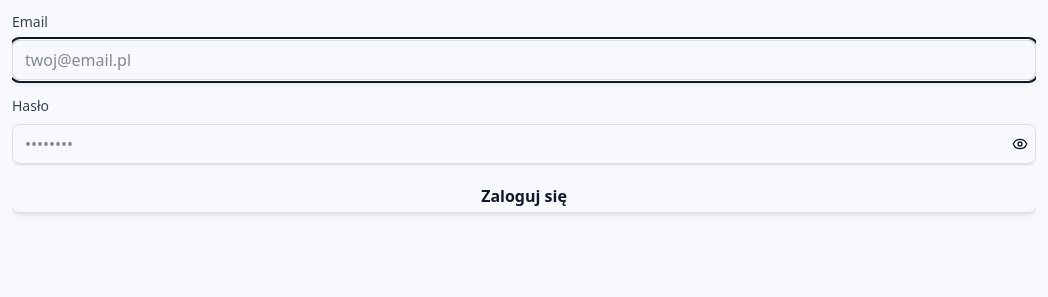
LoginForm › Client-side Validation › should show error when email format is invalid
Type "invalid-email" into the field labelled "Email" at (524, 60), box [12,40,1036,80]
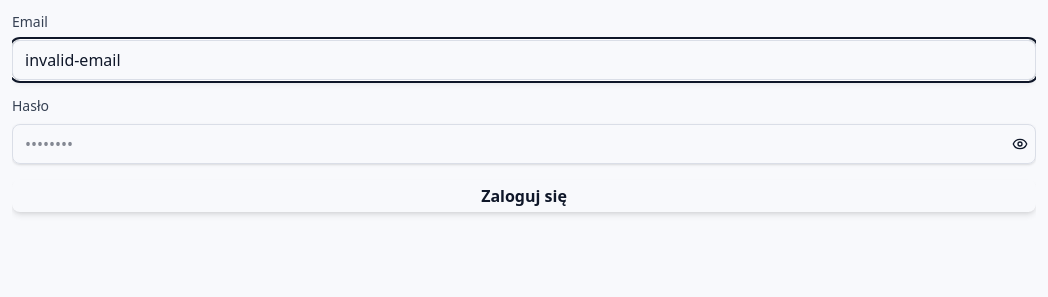
Click the button "Zaloguj się" at (524, 196), box [12,180,1036,212]
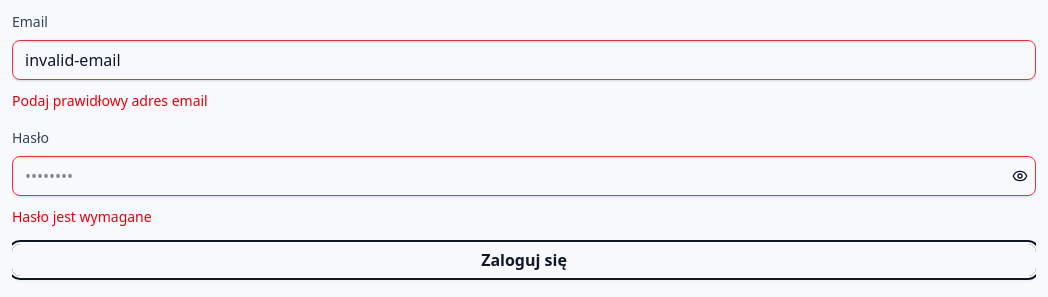
Expected: the text "Podaj prawidłowy adres email" is shown, [12,91,208,110]
